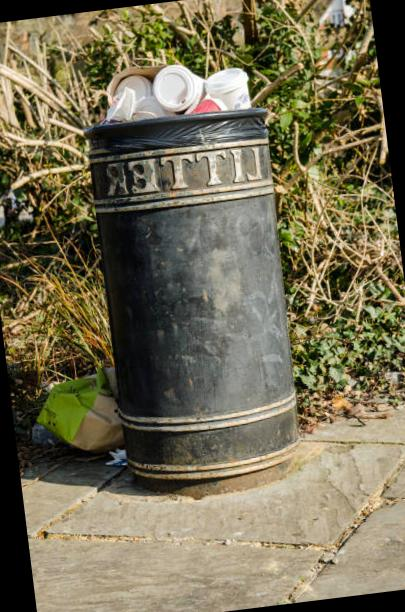trash: (86, 47, 268, 135), (38, 349, 140, 466)
trash_can_overflow: (0, 54, 317, 523)
